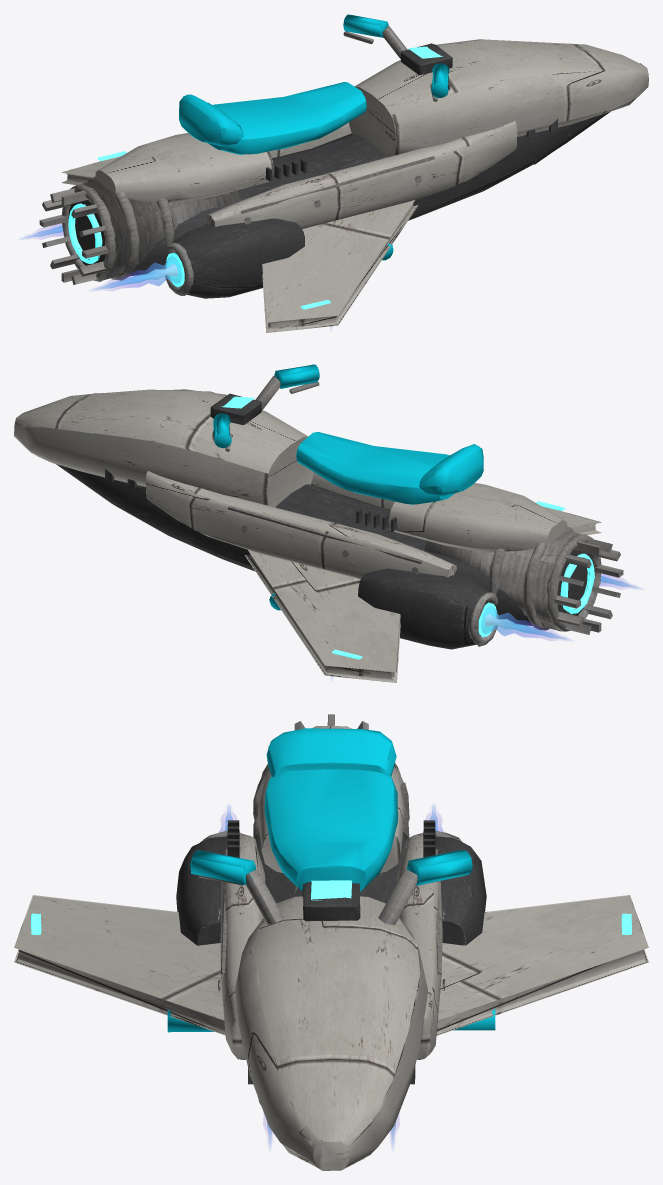
The model's file is HoverBike_MML_Lite.glb.
3 renders of one model, top to bottom at view 1: azimuth 30°, elevation 25°; view 2: azimuth 150°, elevation 25°; view 3: azimuth 270°, elevation 25°, orthographic. The views are drawn at different scales.
Parts seen in each view (by area): view 1: SM_Boneyard_HoverBike_Lite, Jet_side_r; view 2: SM_Boneyard_HoverBike_Lite, Jet_side_l; view 3: SM_Boneyard_HoverBike_Lite.
Part boxes in pixels (x1,y1,x2,y2): SM_Boneyard_HoverBike_Lite: (39, 14, 648, 332); Jet_side_r: (93, 256, 181, 290); SM_Boneyard_HoverBike_Lite: (14, 364, 623, 682); Jet_side_l: (481, 606, 569, 640); SM_Boneyard_HoverBike_Lite: (14, 714, 648, 1170).
Size of the model in its own units: 3.42 by 1.39 by 2.17.
Materials: 6 (4 with a texture image).
